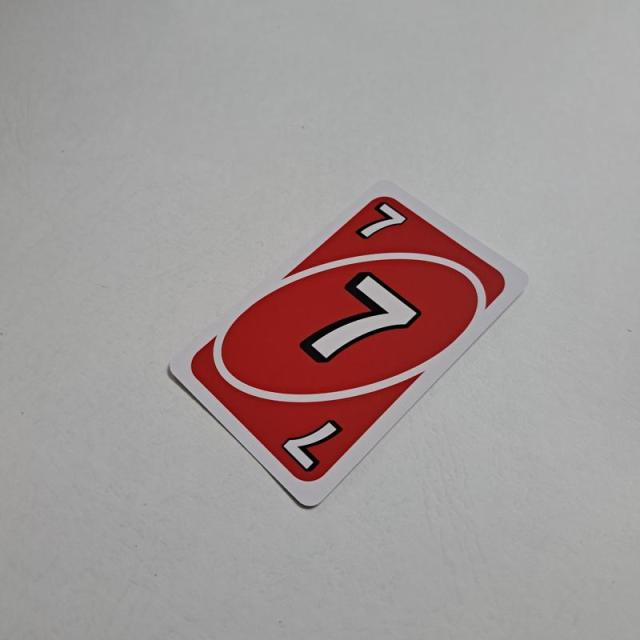Number_7: (355, 199, 410, 243)
Red_Card: (187, 189, 512, 486)
